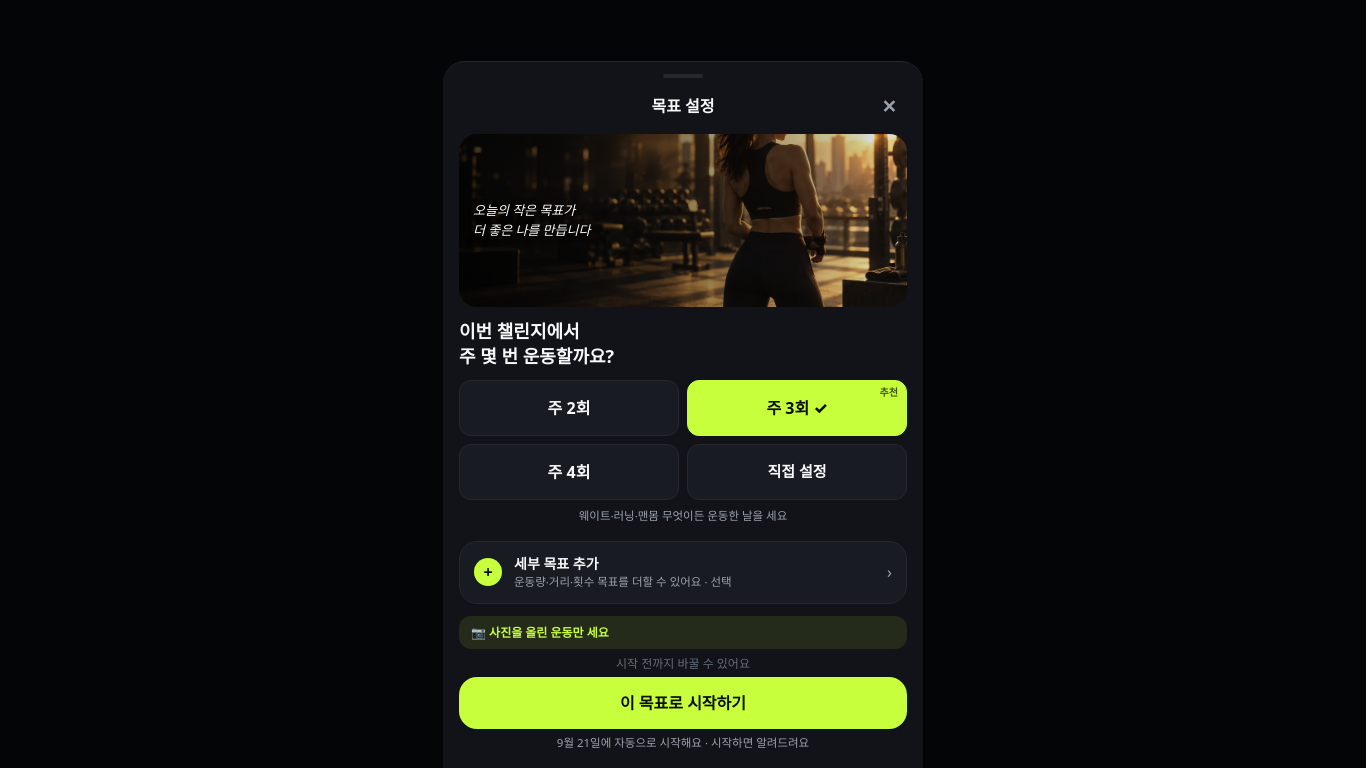
Test: 세부 목표 — 완전히 선택이다 › ⛔ 따로 고르는 '주간 횟수' 지표는 없다 — 사용자가 물렀다
The image size is (1366, 768).
Click the button "+ 세부 목표 추가 운동량·거리·횟수 목표를 더할 수 있어요 · 선택 ›": point(683, 572) x1=459 y1=541 x2=907 y2=604
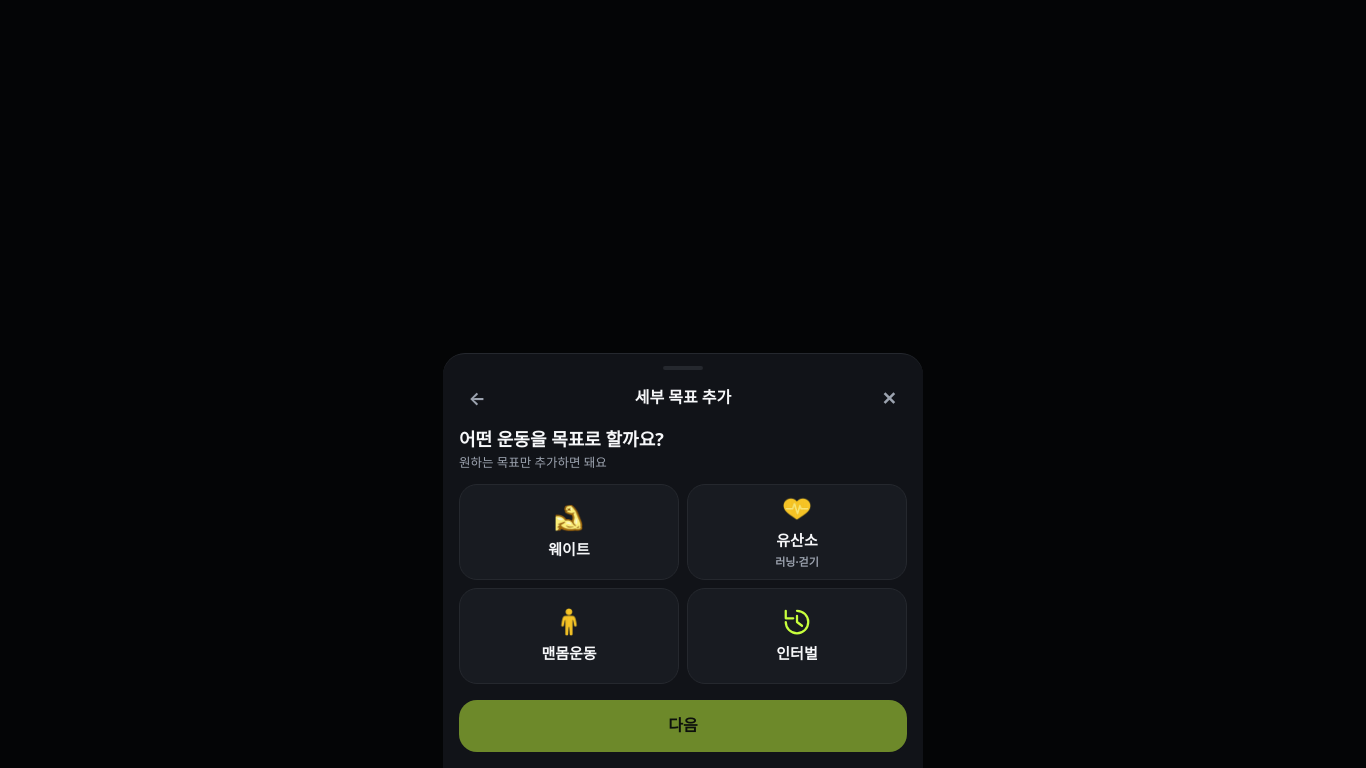
Click the radio button labelled "유산소 러닝·걷기": point(797, 532) x1=687 y1=484 x2=907 y2=580
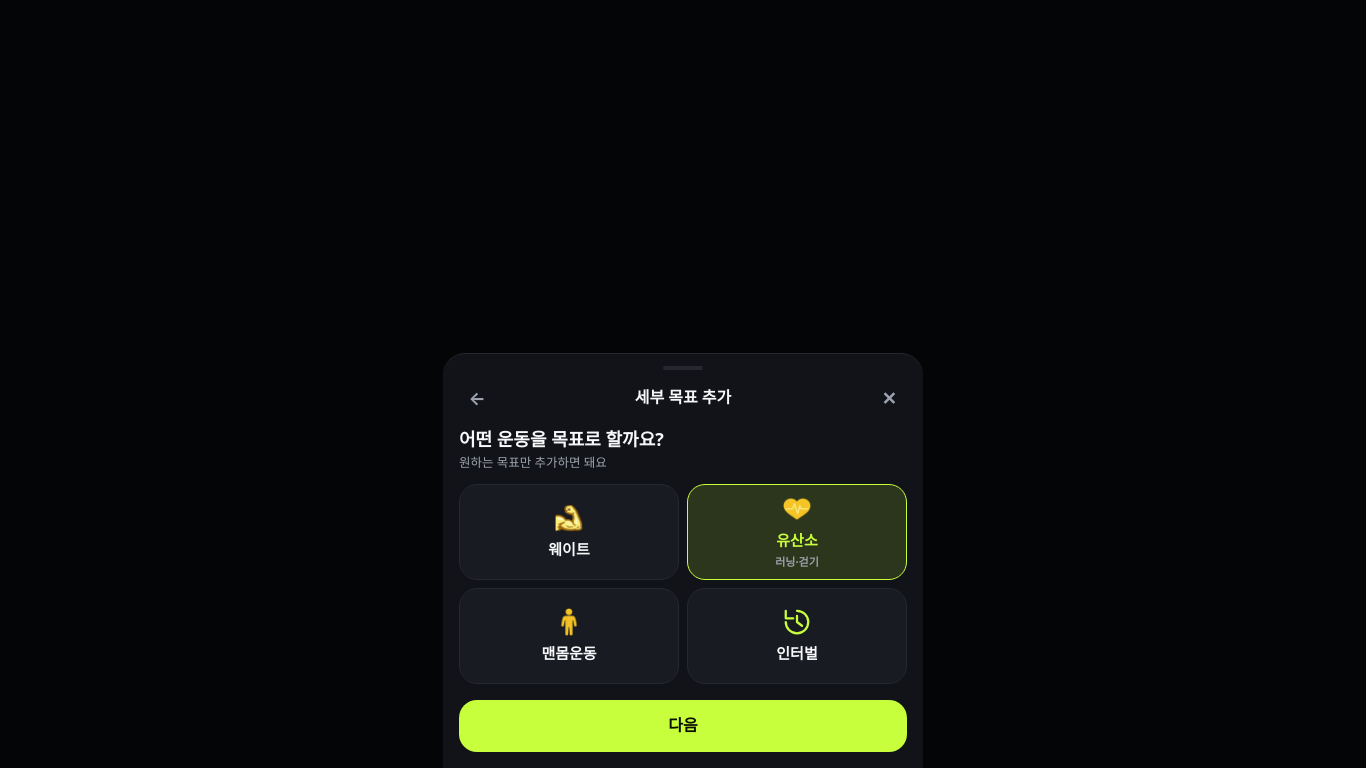
Click the button "다음": point(683, 726) x1=459 y1=700 x2=907 y2=752
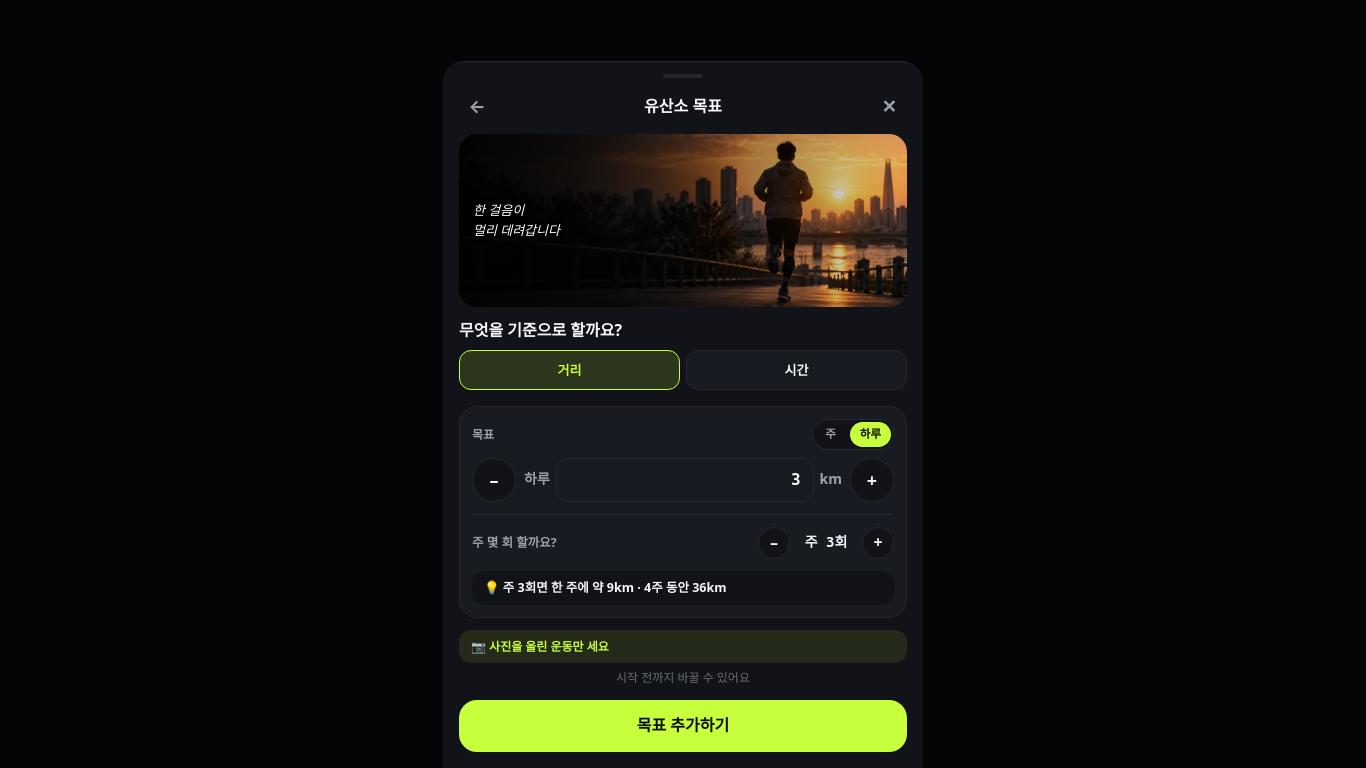
Expected: the radio button labelled "거리" is shown, x1=459 y1=350 x2=680 y2=390
Expected: the radio button labelled "시간" is shown, x1=686 y1=350 x2=907 y2=390
Expected: the text "주 몇 회 할까요?" is shown, x1=472 y1=534 x2=557 y2=552
